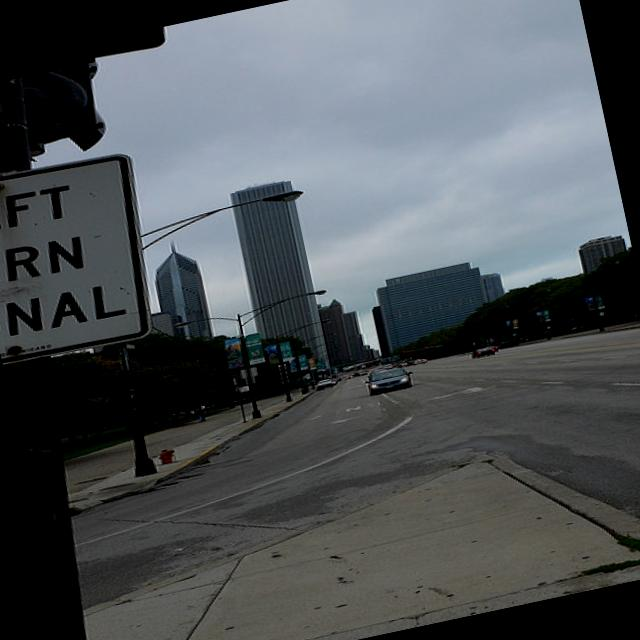Vehicle: (362, 362, 417, 396), (313, 376, 338, 391), (470, 346, 496, 360), (409, 356, 426, 366), (486, 344, 500, 354), (338, 374, 353, 381), (398, 359, 410, 367)
